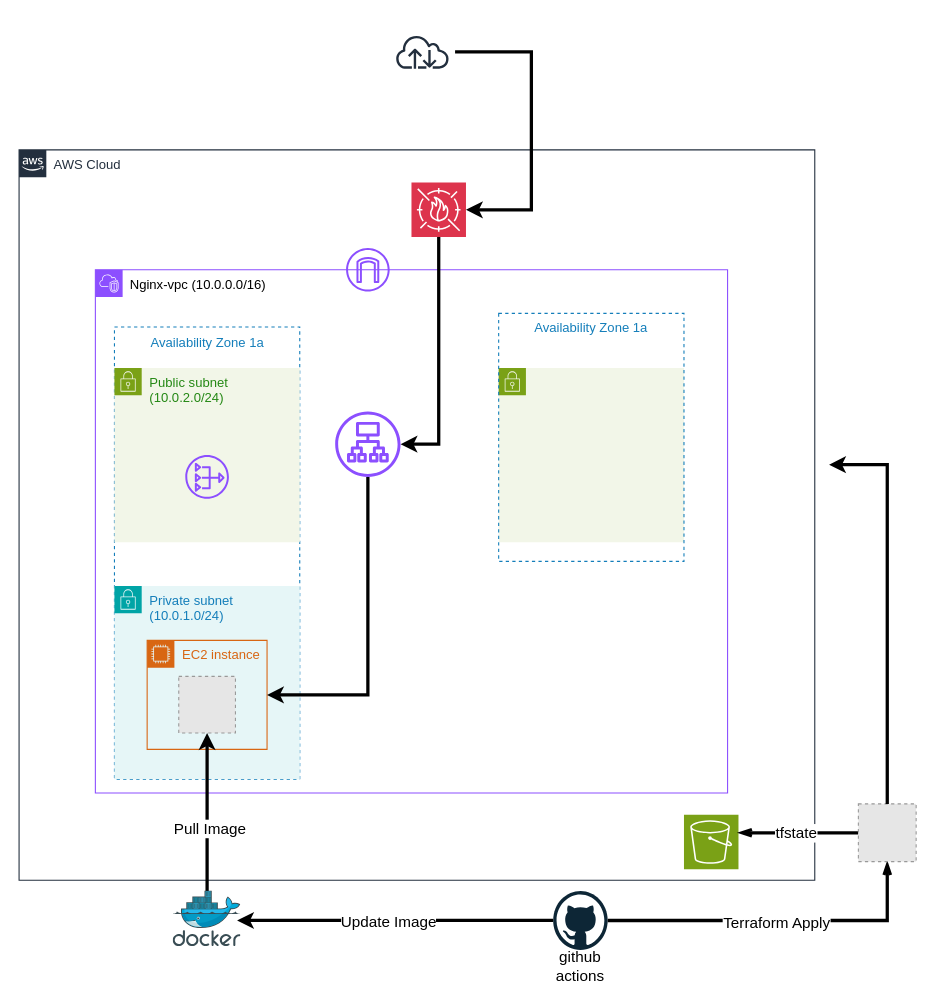
The diagram is 935 pixels wide and 1004 high, and some of its shapes have lost their labels. Grey dashed boxes stand in for pictures. Here are the shapes that lost their labels. From the top down, the centre of each, then its label:
(x=422, y=51): Internet
(x=591, y=454): Public subnet (10.0.3.0/24)
